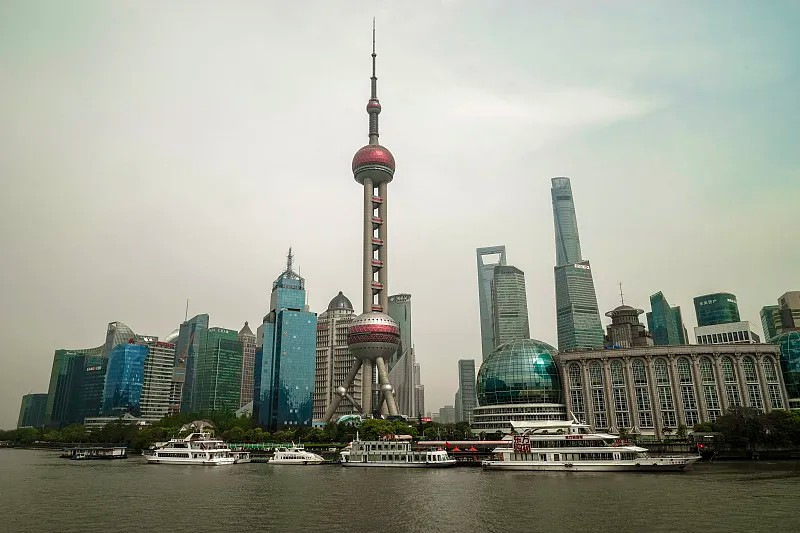Oriental: (323, 14, 400, 418)
